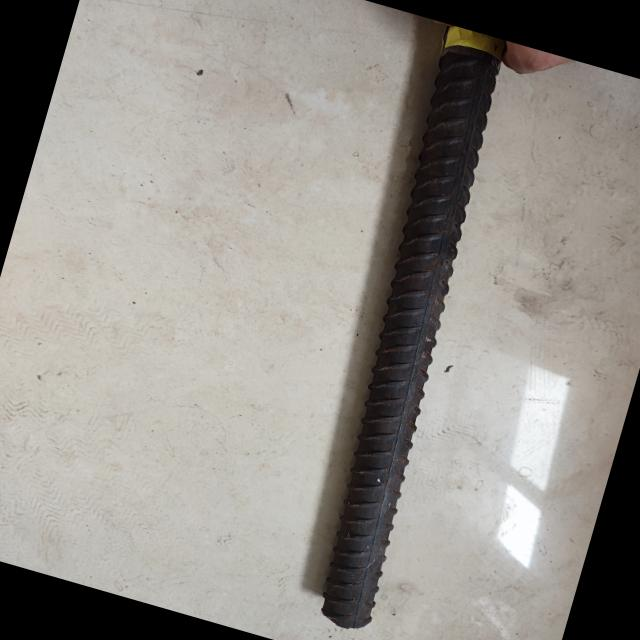ribbed bar: (271, 24, 540, 637)
